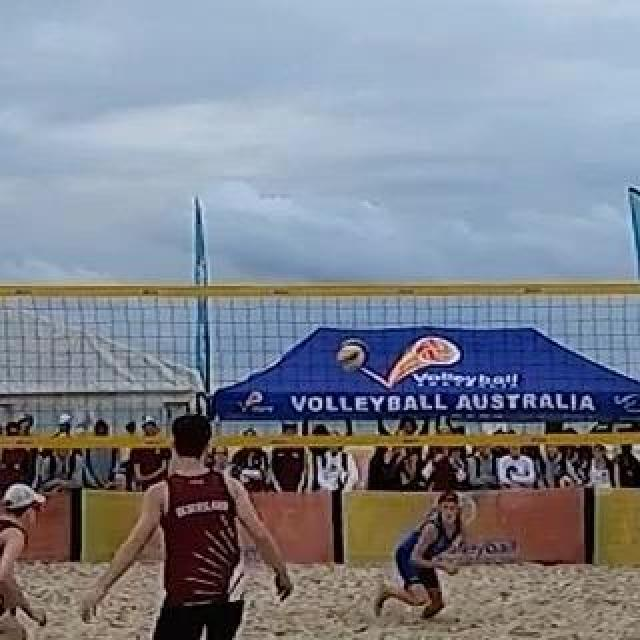volleyball: (336, 338, 370, 372)
